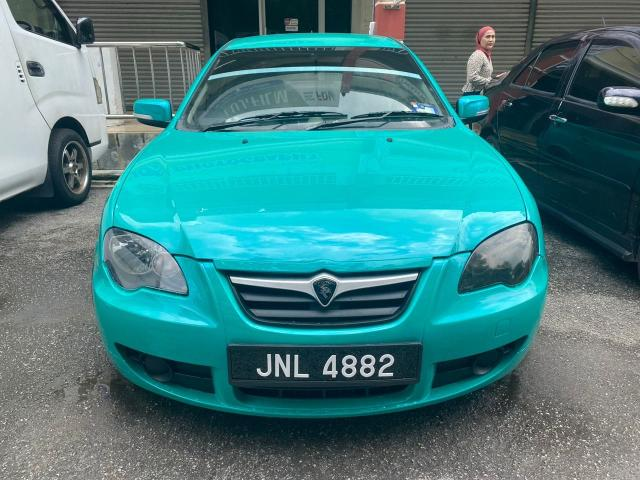License_Plate: (232, 343, 419, 387)
car: (100, 29, 547, 425)
